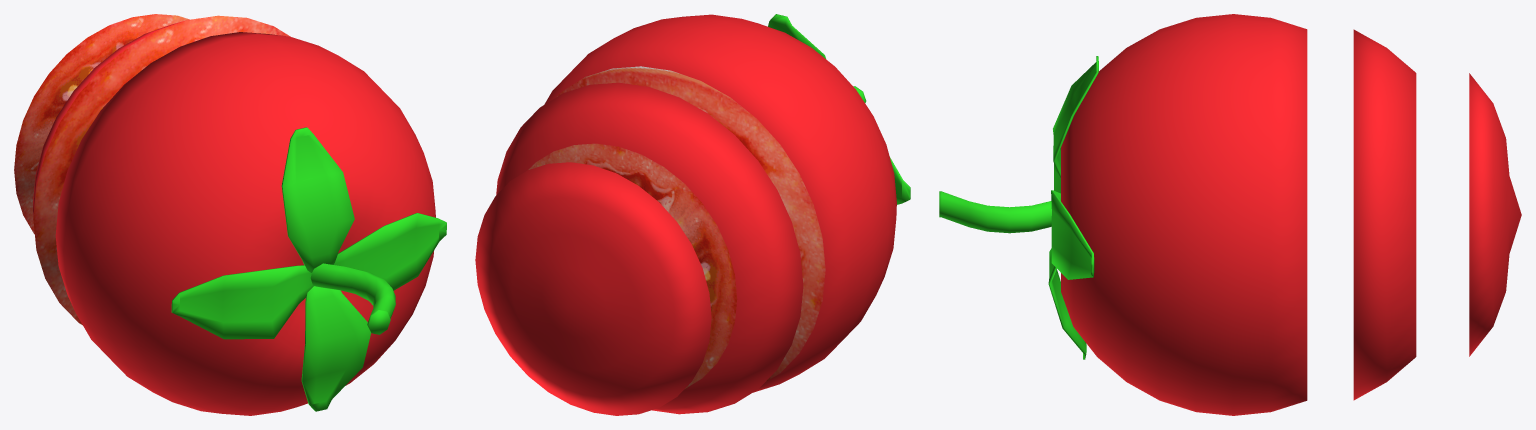
The model's file is tomat 2.fbx.
3 renders of one model, left to right at view 1: azimuth 30°, elevation 25°; view 2: azimuth 150°, elevation 25°; view 3: azimuth 270°, elevation 25°, orthographic. The views are drawn at different scales.
Visible parts, largest first — view 1: tomat 2, potongan 2, potongan 1; view 2: tomat 2, potongan 1, potongan 2; view 3: tomat 2, potongan 2, potongan 1.
Boxes of the visible parts, left/top/right/bottom form: tomat 2: left=55, top=32, right=446, bottom=415; potongan 2: left=33, top=15, right=290, bottom=324; potongan 1: left=14, top=14, right=189, bottom=234; tomat 2: left=544, top=14, right=910, bottom=392; potongan 1: left=475, top=162, right=711, bottom=415; potongan 2: left=496, top=82, right=803, bottom=414; tomat 2: left=939, top=14, right=1307, bottom=415; potongan 2: left=1353, top=29, right=1416, bottom=400; potongan 1: left=1469, top=73, right=1521, bottom=356.
Bounding box in the file's own units: 99.6 × 99.6 × 144.
3 materials, 1 textured.
